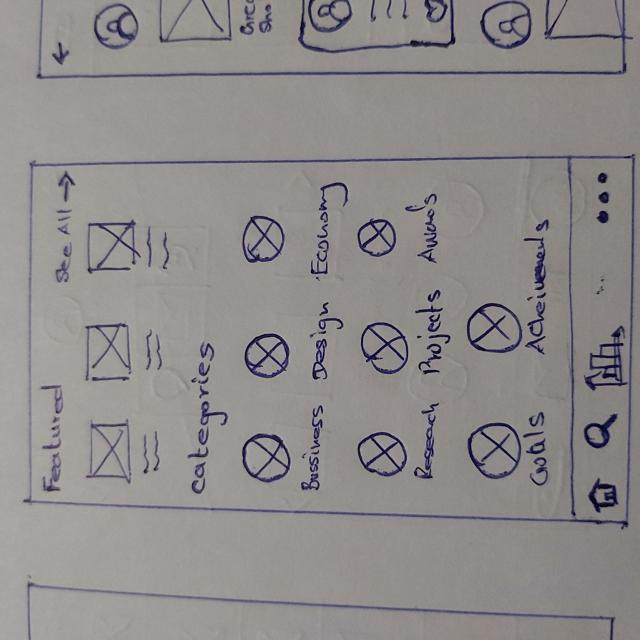BottomNavBar: (569, 154, 629, 524)
BottomNavItems: (584, 324, 626, 392), (580, 408, 623, 456), (588, 168, 621, 230), (587, 473, 622, 515)
Icon: (57, 170, 76, 203)
Image: (84, 322, 132, 380), (85, 220, 138, 272), (88, 422, 133, 481)
MainLayout: (25, 153, 634, 530)
RoundedImage: (462, 421, 524, 483), (466, 301, 523, 356), (240, 431, 296, 486), (240, 214, 288, 265), (245, 331, 292, 381)
TextView: (36, 382, 73, 496), (190, 341, 216, 491), (527, 217, 551, 354), (420, 288, 447, 378), (522, 410, 552, 489), (312, 181, 336, 279), (311, 302, 339, 383), (52, 207, 78, 284), (416, 401, 440, 482), (142, 223, 177, 278), (305, 405, 325, 495), (418, 193, 441, 266), (137, 426, 168, 477), (142, 332, 167, 383)
